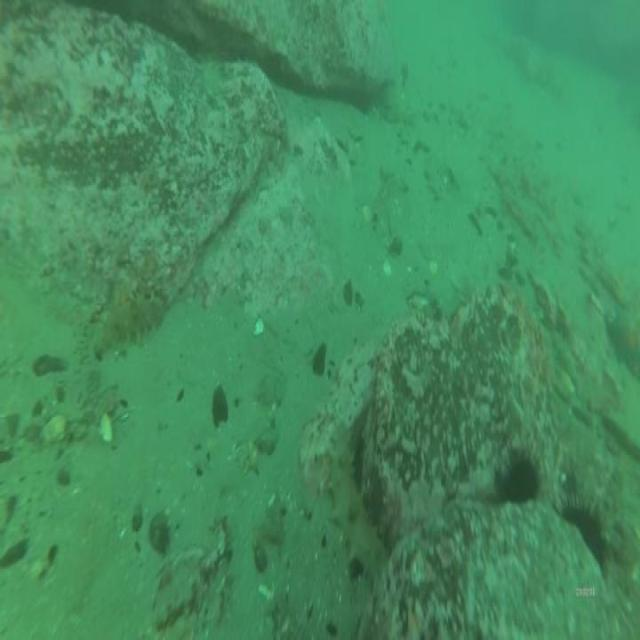echinus: (565, 504, 607, 569), (506, 457, 538, 502)
holothurian: (325, 426, 387, 590), (94, 297, 164, 348)
